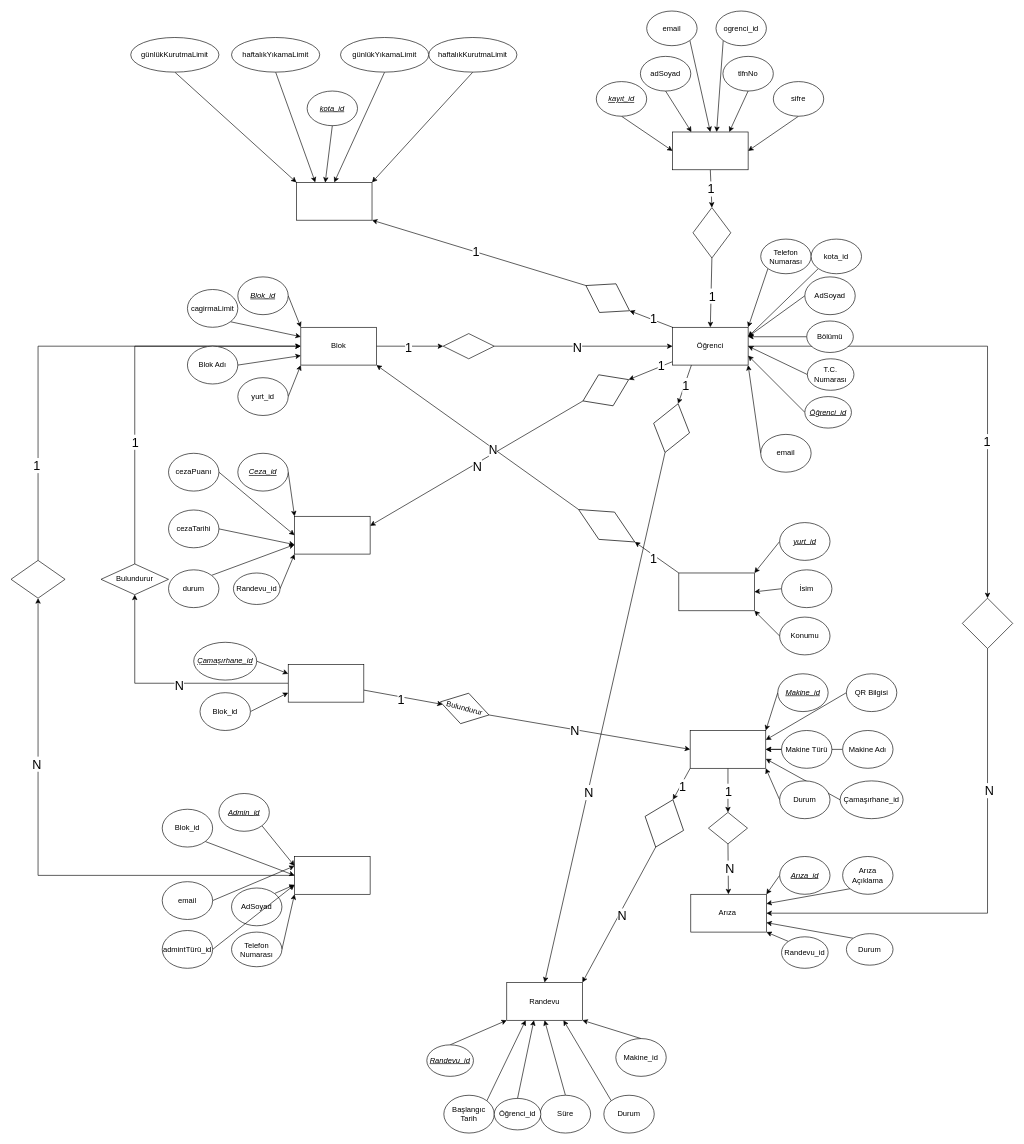
The diagram is 1024 pixels wide and 1144 high, and some of its shapes have lost their labels. The shapes that lost their labels are listed below. From the top down, each one's centre as x and y in pixels, then its label:
At pixel 710 150: "Kayıt".
At pixel 334 201: "kota".
At pixel 711 232: "Kontrol Eder".
At pixel 607 297: "Hakkı".
At pixel 468 346: "Barındırır".
At pixel 605 390: "Alır".
At pixel 671 427: "Oluşturur".
At pixel 332 535: "Ceza".
At pixel 606 525: "Sahiptir".
At pixel 37 579: "Yönetir".
At pixel 716 591: "Yurt".
At pixel 987 623: "Bildirir".
At pixel 326 683: "Çamaşırhane".
At pixel 728 749: "Makine".
At pixel 664 823: "Verilir".
At pixel 727 828: "Oluşur".
At pixel 332 875: "Admin".
